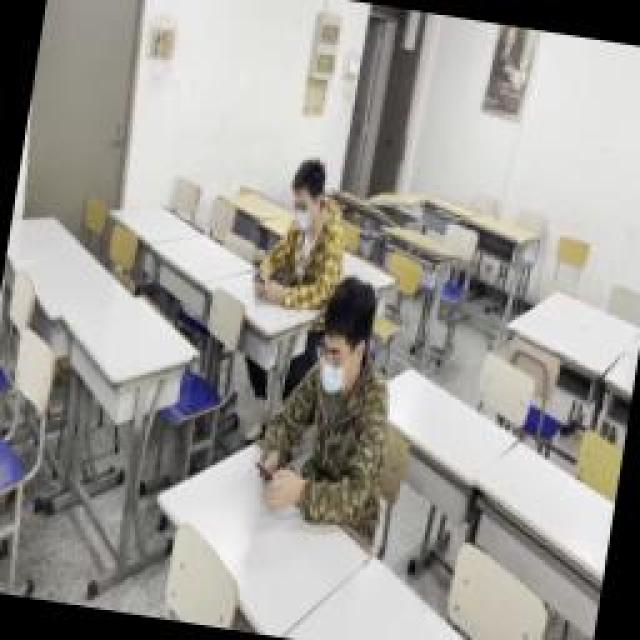phone: (255, 308, 403, 528), (252, 158, 350, 310)
